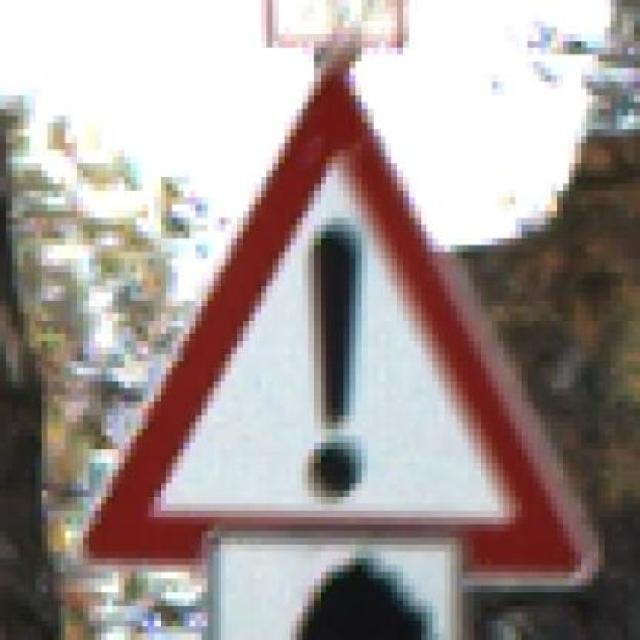Attention Please-: (63, 43, 597, 602)
